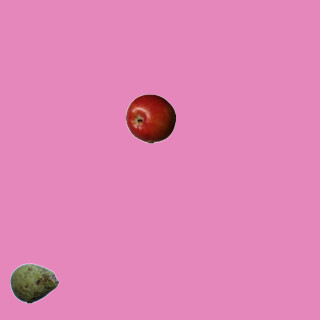Apple Braeburn: (125, 93, 175, 143)
Pear Stone: (9, 258, 59, 308)
